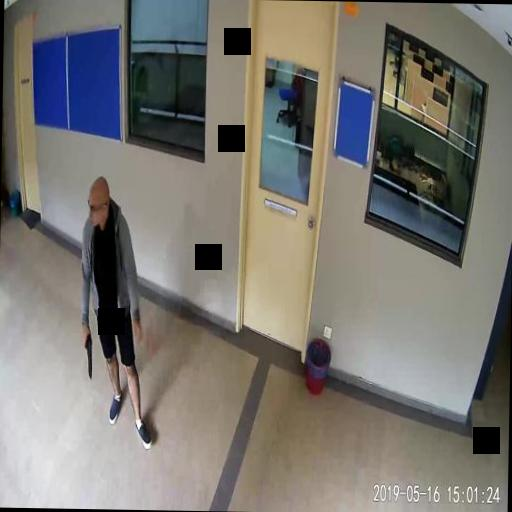Handgun: (82, 330, 93, 378)
